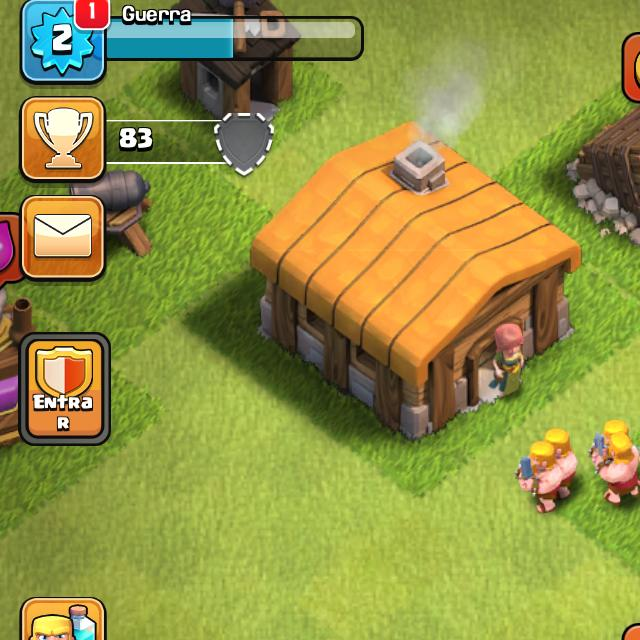FullCoin: (623, 35, 640, 100)
